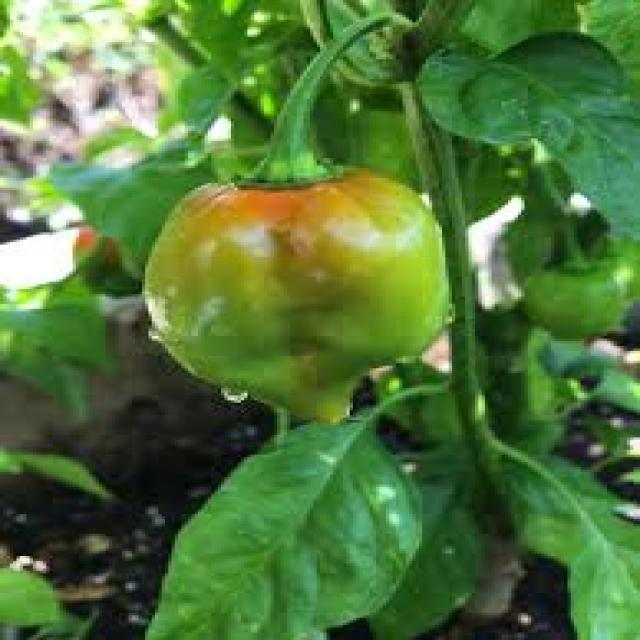bell_pepper: (132, 153, 474, 457)
